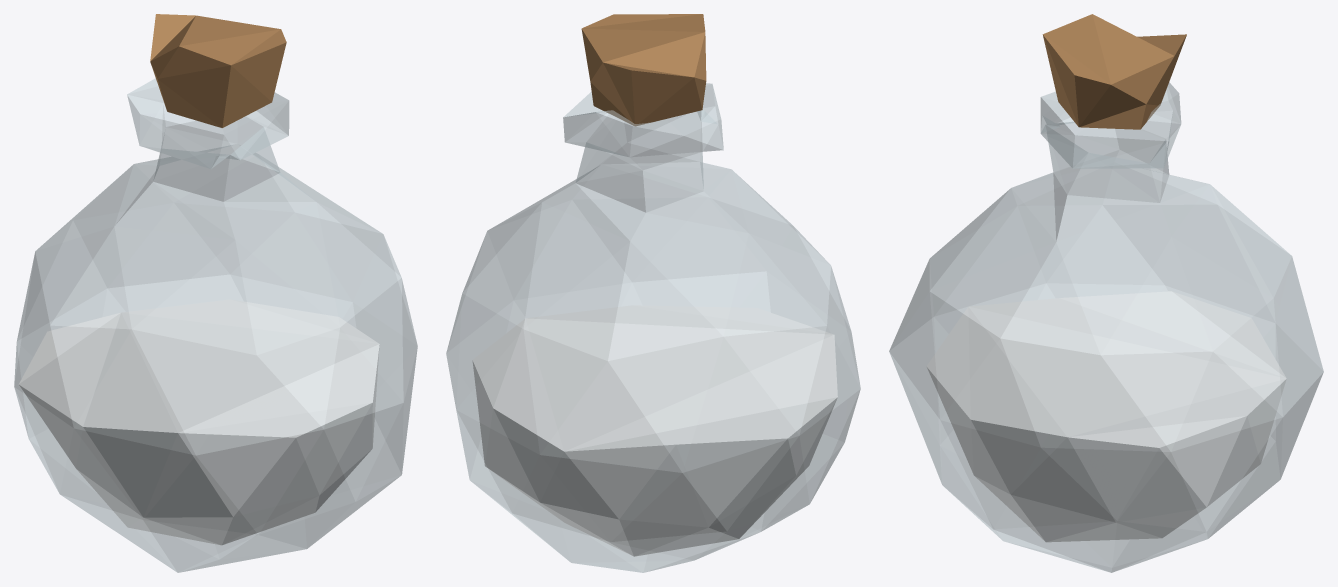
The model's file is AWS_Potion_Glow_002.fbx.
3 renders of one model, left to right at view 1: azimuth 30°, elevation 25°; view 2: azimuth 150°, elevation 25°; view 3: azimuth 270°, elevation 25°, orthographic. The views are drawn at different scales.
Parts seen in each view (by area): view 1: AWS_Potion_Glow_002; view 2: AWS_Potion_Glow_002; view 3: AWS_Potion_Glow_002.
Part boxes in pixels (x1,y1,x2,y2): AWS_Potion_Glow_002: (14,14,417,572); AWS_Potion_Glow_002: (446,14,860,572); AWS_Potion_Glow_002: (889,14,1323,572).
Size of the model in its own units: 6.33 by 9.42 by 7.02.
